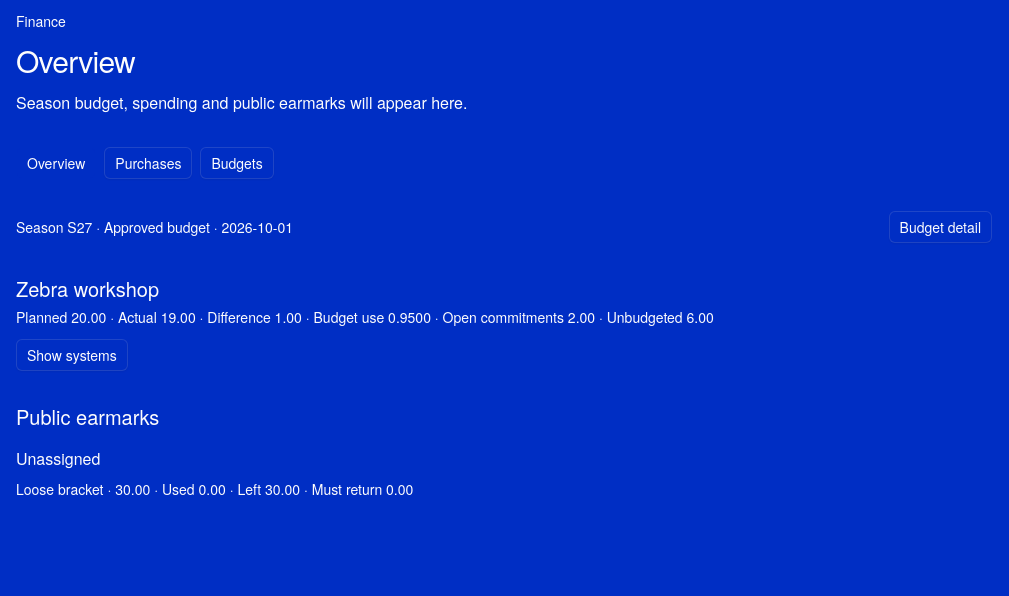
Test: FIN-09-A04 overview › shows budget state, drill-down, use, commitments, unbudgeted totals, and unassigned parts
Expected: the text "Beta" is not shown
What coordinates should you click on to do the following:
click the button "Show systems"
I would click on:
 (72, 355)
Its box is left=16, top=339, right=128, bottom=371.
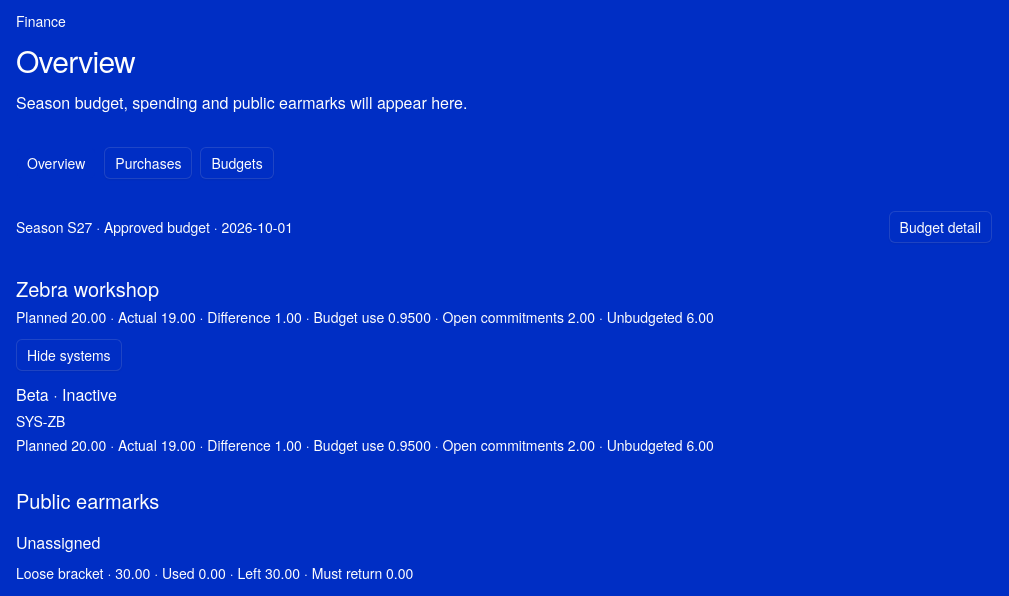
Result: the button "Hide systems" is expanded at left=16, top=339, right=122, bottom=371
Result: the text "Beta · Inactive" is shown at left=16, top=383, right=117, bottom=406
Result: the text "SYS-ZB" is shown at left=16, top=411, right=65, bottom=431
